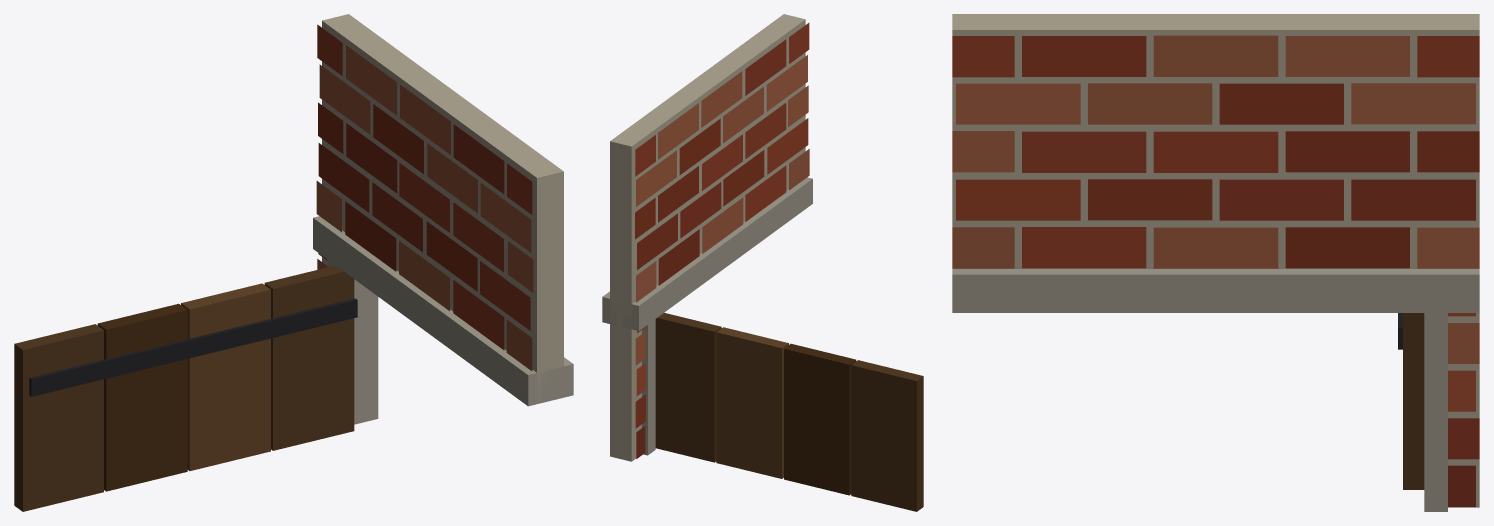
Rendered from wall-brick-door-open-high-l.glb.
3 views of the same model, side by side, from view 1: azimuth 30°, elevation 25°; view 2: azimuth 150°, elevation 25°; view 3: azimuth 270°, elevation 25° (orthographic). The views are drawn at different scales.
Parts seen in each view (by area): view 1: wall-brick-door-open-high-l; view 2: wall-brick-door-open-high-l; view 3: wall-brick-door-open-high-l.
Part boxes in pixels (x1=…): wall-brick-door-open-high-l: x1=14, y1=14, x2=573, y2=511; wall-brick-door-open-high-l: x1=602, y1=14, x2=923, y2=511; wall-brick-door-open-high-l: x1=952, y1=14, x2=1479, y2=511.
Size of the model in its own units: 0.984 by 1 by 1.
